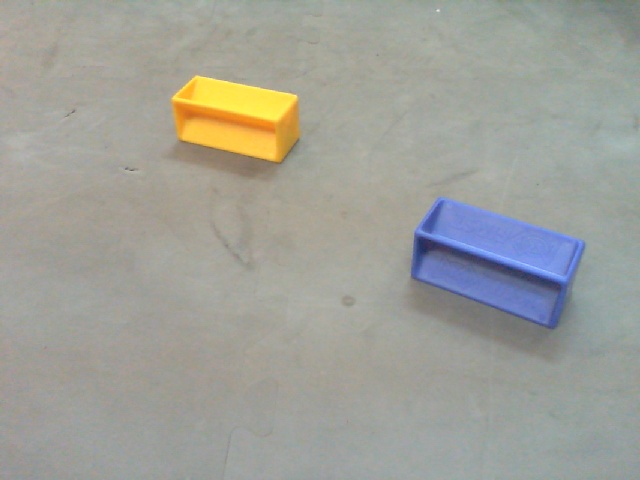BlueSample: (406, 194, 588, 339)
YellowSample: (168, 72, 303, 166)
